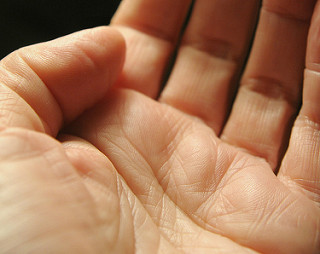palm: (30, 105, 276, 250)
